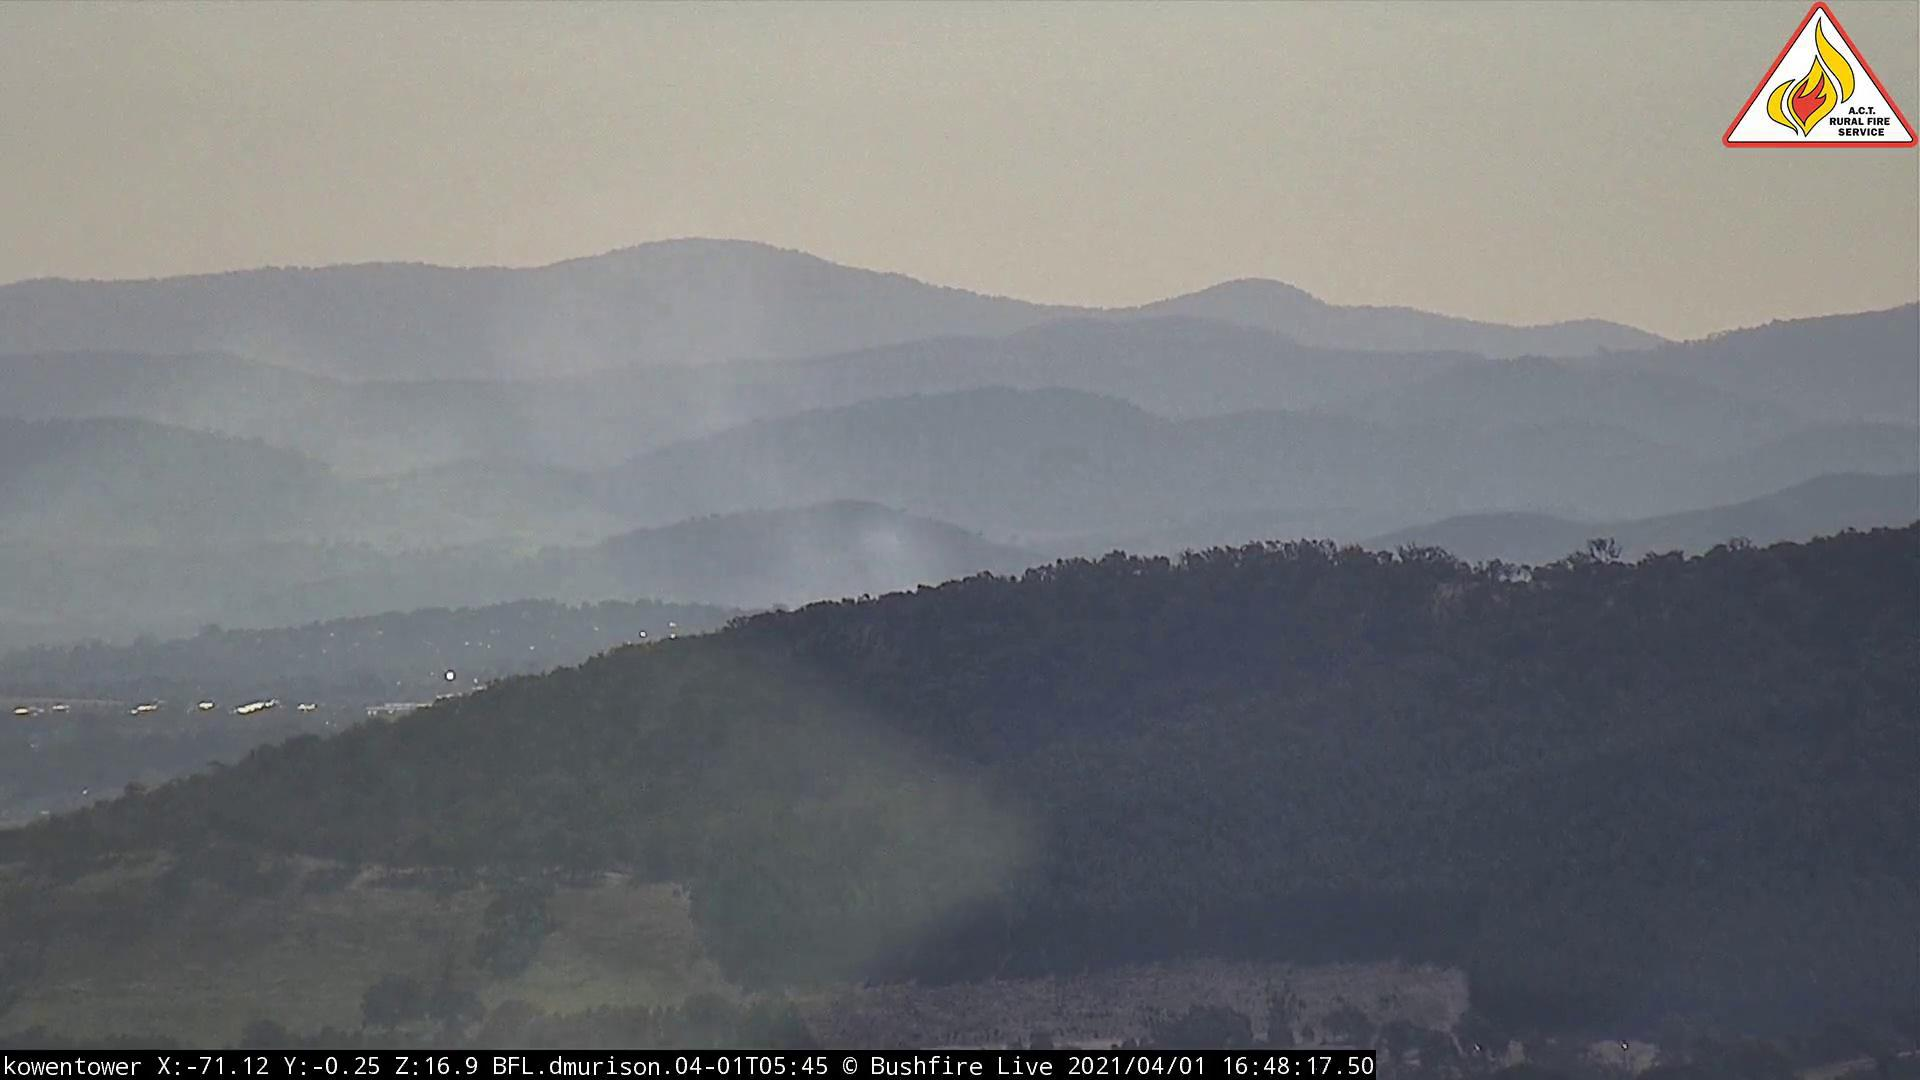Smoke: (531, 196, 1029, 669)
